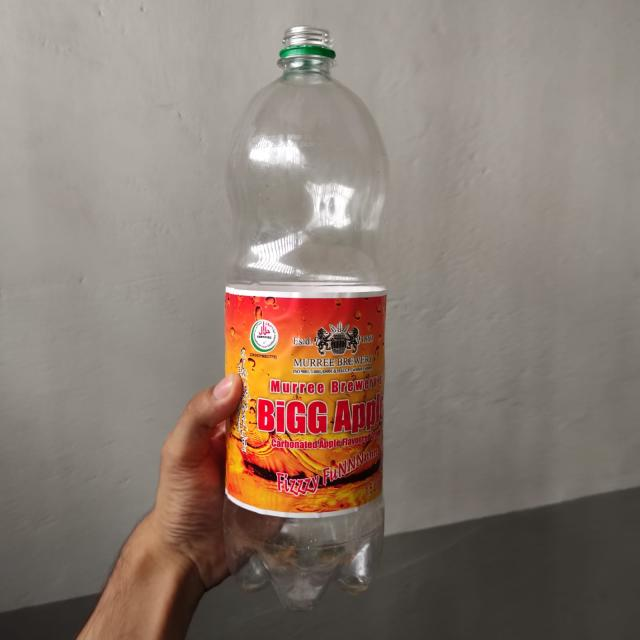bottle: (226, 28, 394, 618)
label: (224, 288, 392, 518)
